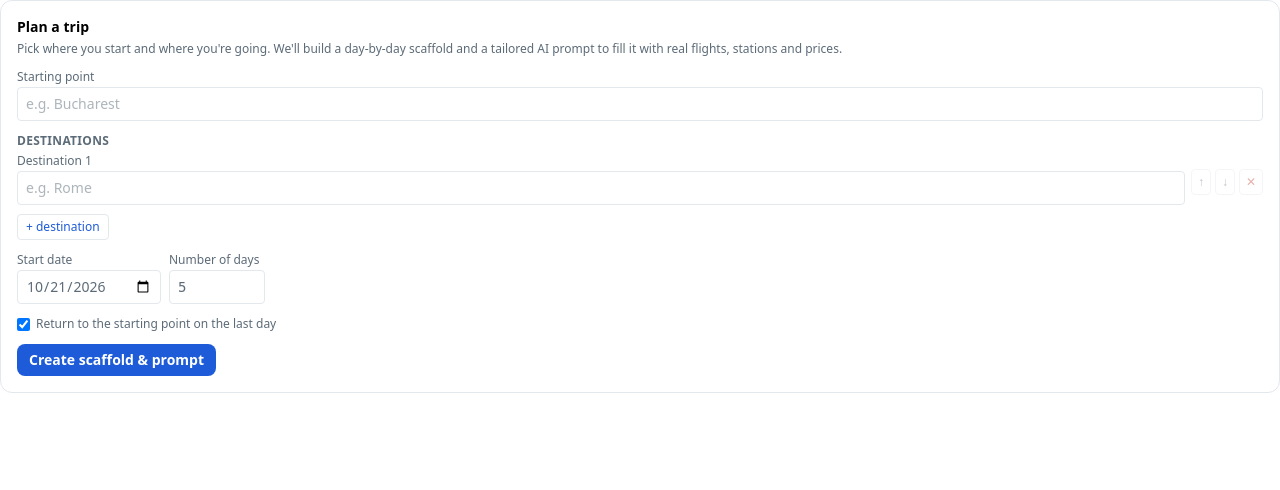
Test: PlanTripForm › surfaces an error when there are fewer days than destinations
Type "Bucharest" into the dropdown labelled "Starting point" at (640, 104), box [17,87,1263,121]
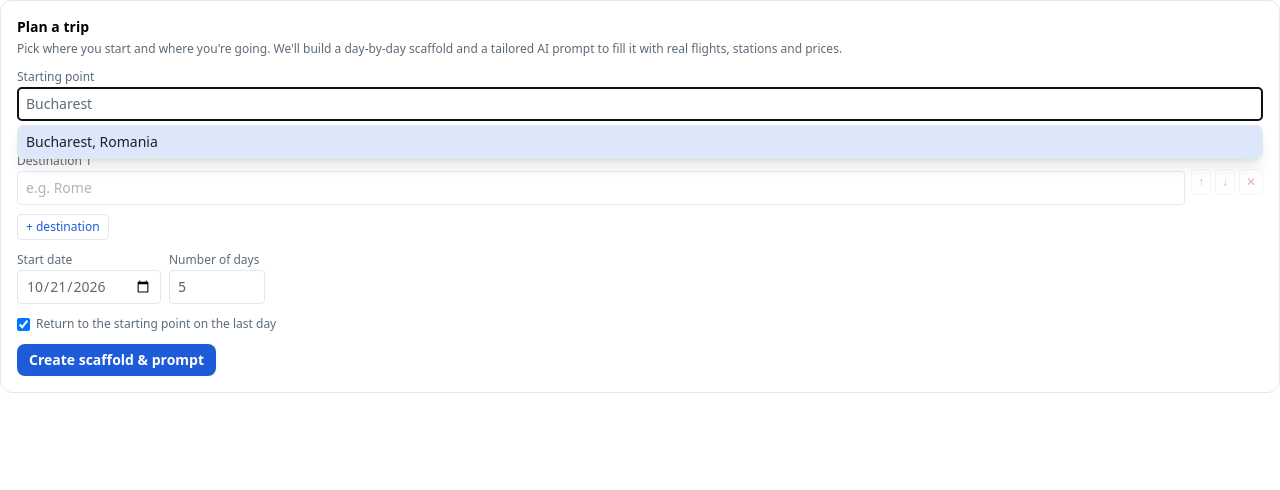
Click the button "Bucharest, Romania" at (92, 142), box [18,126,1262,158]
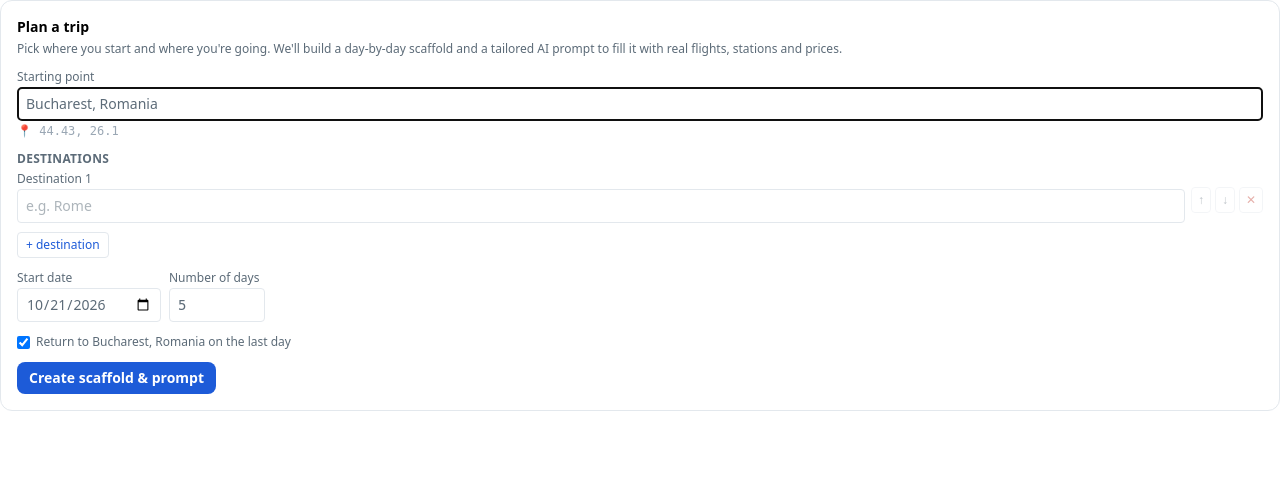
Type "Rome" into the dropdown labelled "Destination 1" at (601, 206), box [17,189,1185,223]
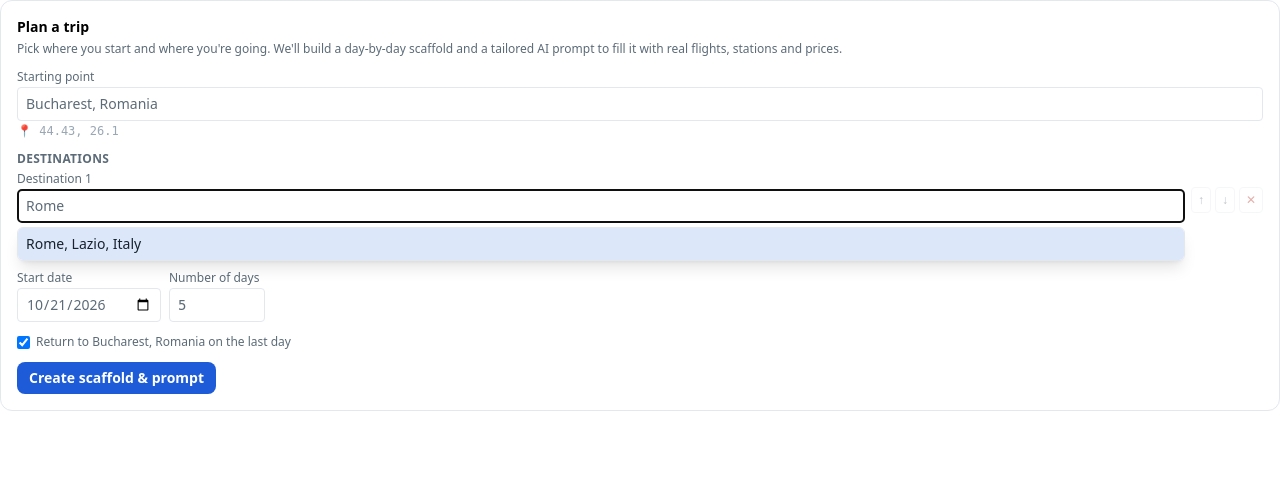
Click the button "Rome, Lazio, Italy" at (84, 244), box [18,228,1184,260]
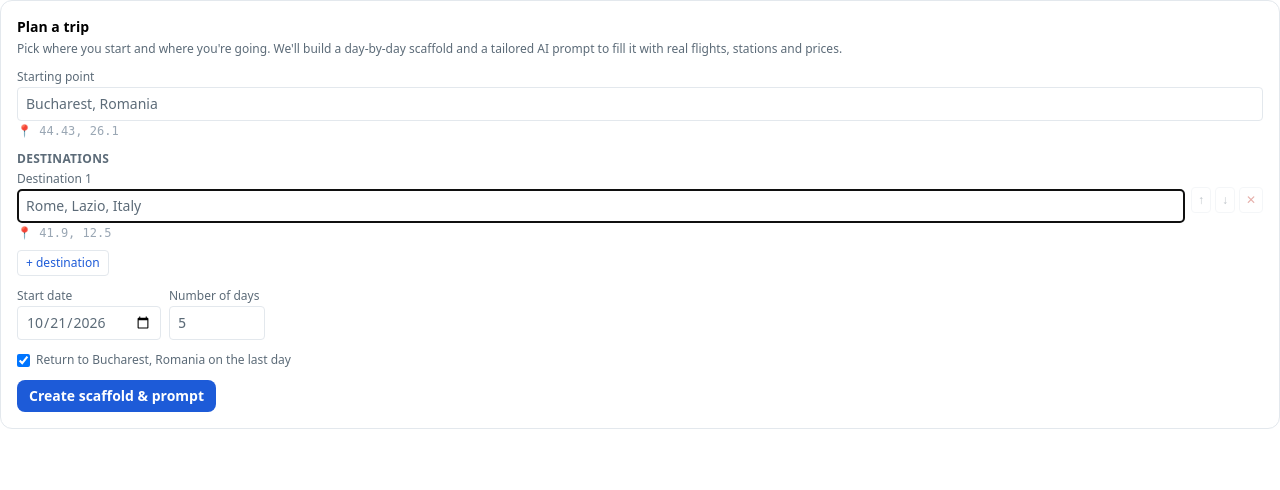
Replace the text in the field labelled "Number of days" with "1" at (217, 323), box [169,306,265,340]
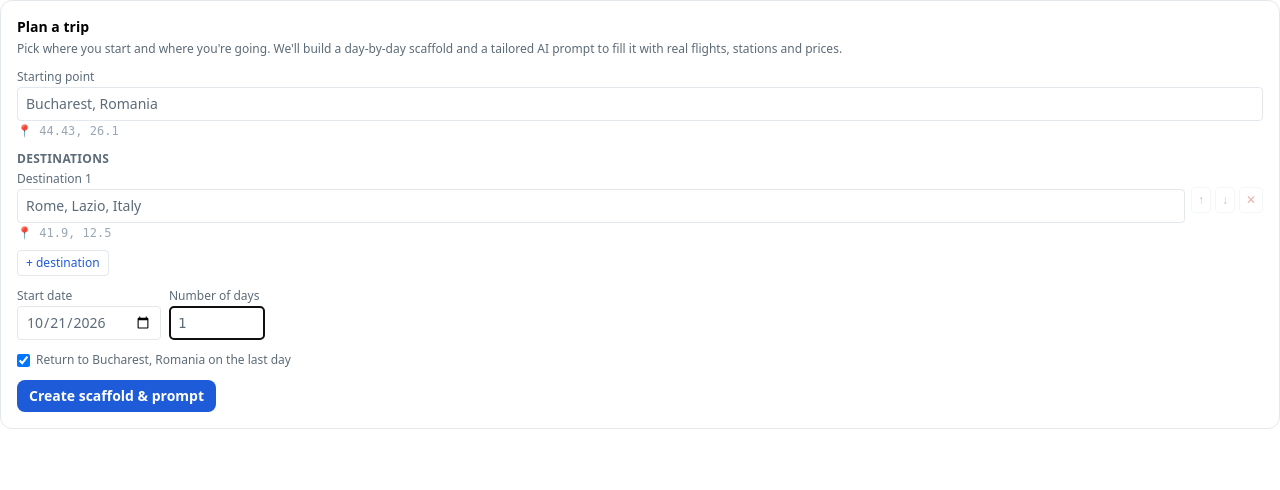
Click the button "Create scaffold & prompt" at (116, 396), box [17,380,216,412]
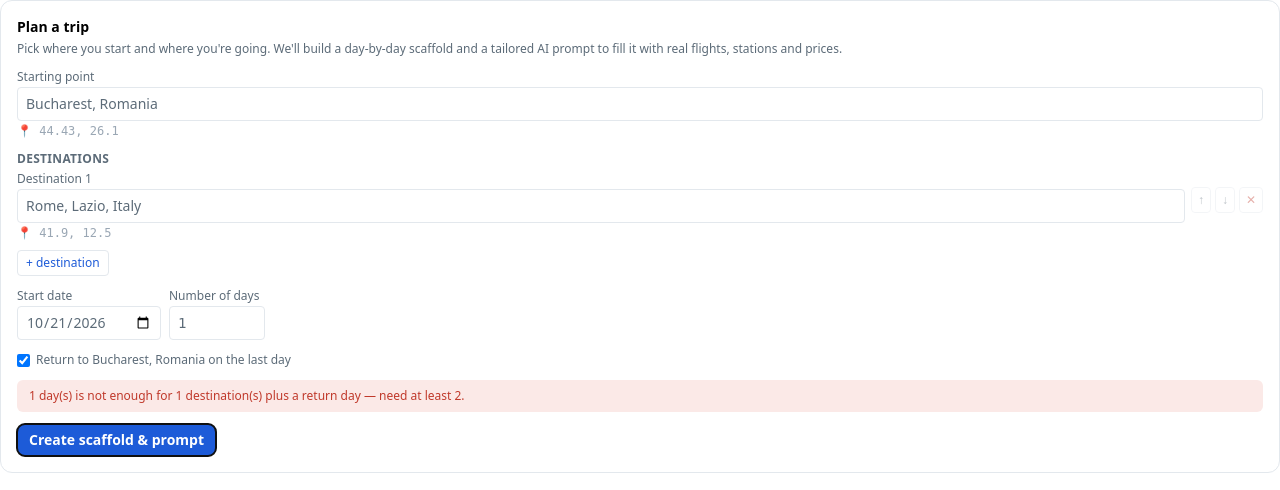
Expected: the text "at least 2" is shown, [29,387,465,404]
